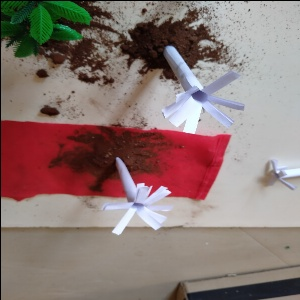plant: (1, 1, 69, 64)
weed: (151, 35, 235, 132), (99, 151, 178, 242), (252, 144, 300, 193)
